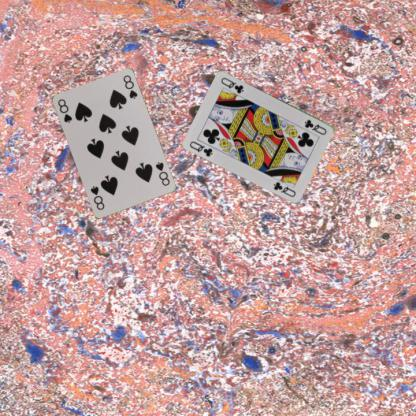8s: (152, 159, 170, 187), (55, 97, 73, 124)
Qc: (188, 138, 214, 158), (302, 117, 328, 136)
